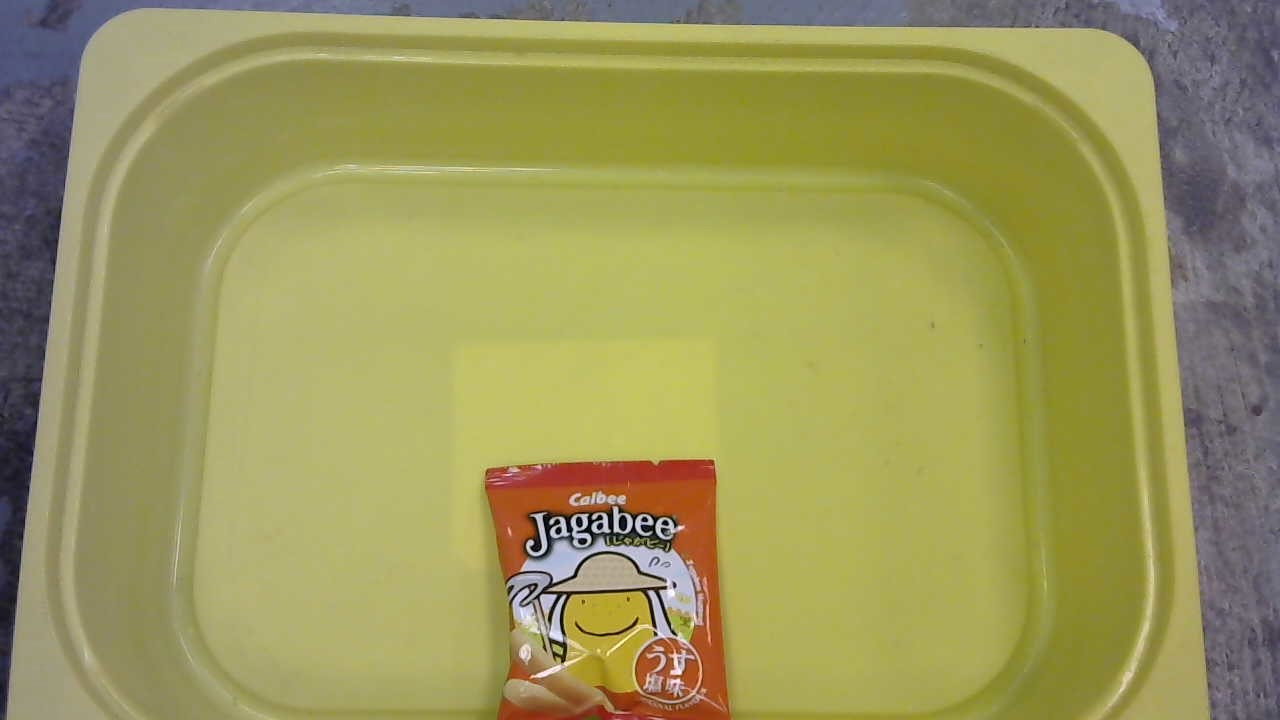JagabeeFarmer: (457, 444, 744, 720)
